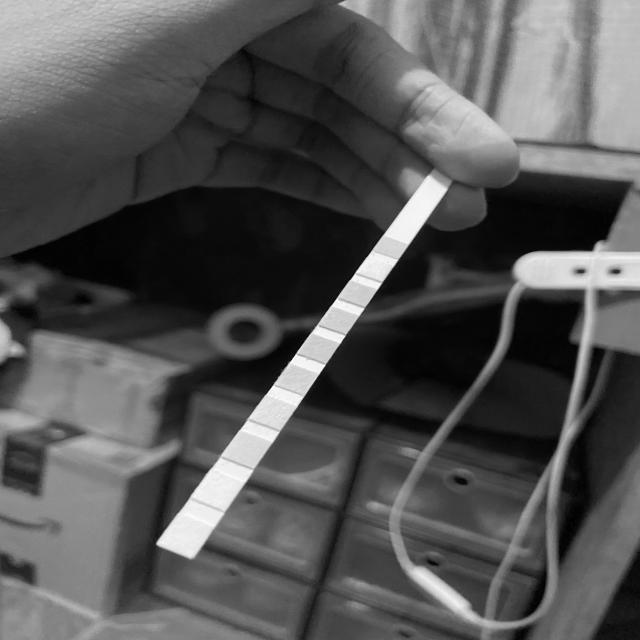Bilirubin: (362, 264, 388, 275)
Blood: (305, 342, 334, 354)
Glucose: (379, 242, 403, 253)
Ketone: (345, 288, 371, 300)
Leukocytes: (171, 524, 206, 544)
Nitrite: (200, 481, 237, 498)
Protein: (258, 405, 289, 419)
SpGravity: (327, 315, 354, 326)
Urobilinogen: (231, 441, 264, 458)
background: (0, 0, 640, 640)
pH: (283, 374, 313, 386)
strip: (156, 174, 452, 560)
